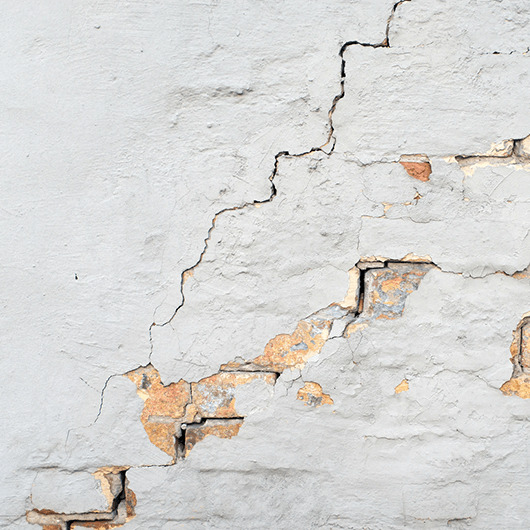stairstep_crack: (63, 0, 400, 443), (61, 257, 425, 529), (457, 135, 529, 160)
